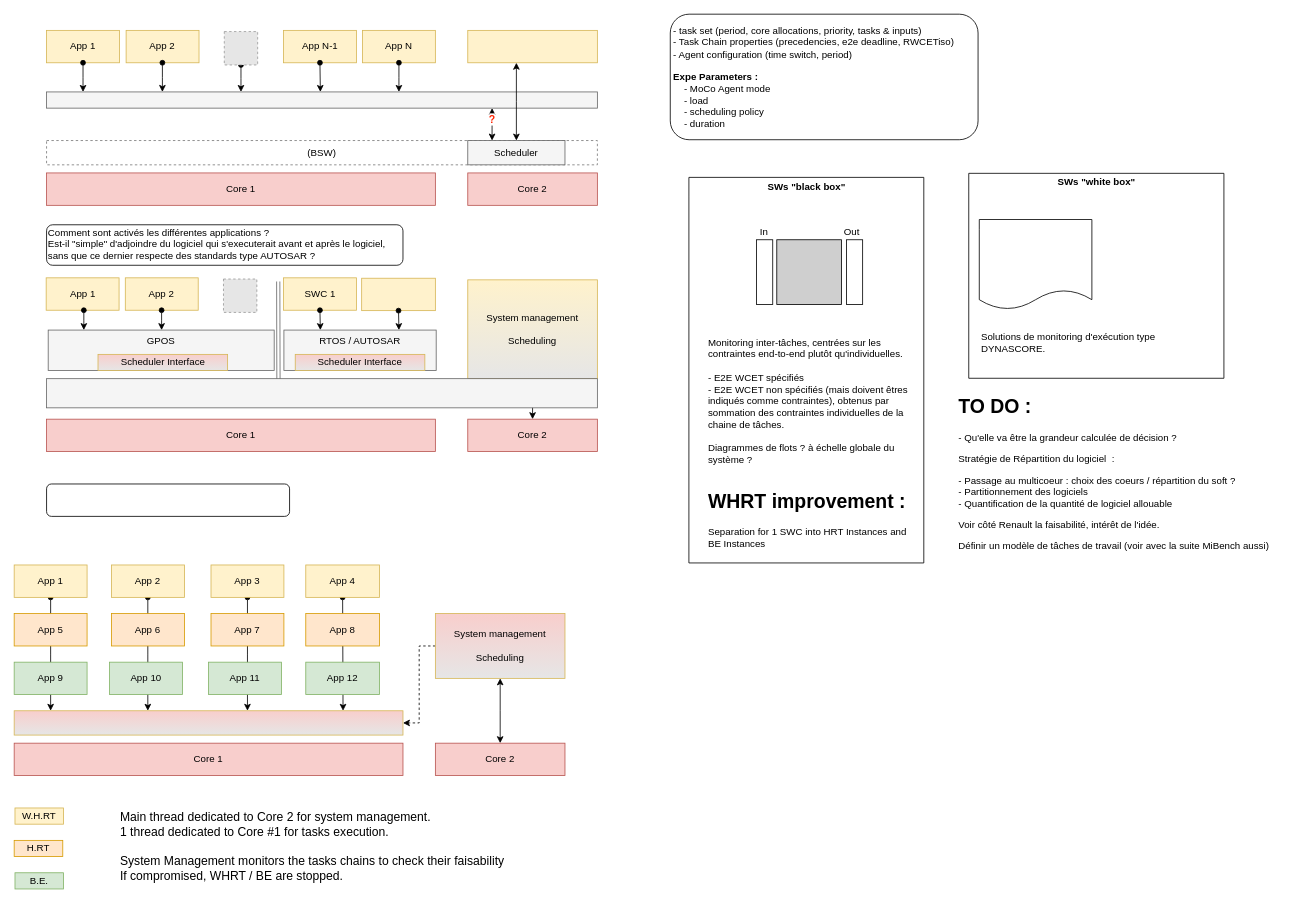
Image size: 1310x903. Some labels were removed from this diagram. Grey dashed boxes stand in for pictures. Each missing label, with the centre of its shape:
Core 1 - Scheduler - EDF policy: point (208, 722)
First experience configuration: point (168, 499)
Hypervisor: point (321, 393)
Middleware (ActiveMQ ?) ????: point (321, 99)
Scheduling Monitor: point (532, 46)
SWC: point (809, 272)
SWC 2: point (398, 294)
SWC = main () { . . . }: point (1035, 264)
